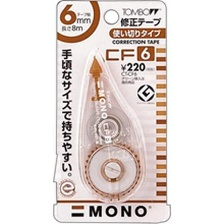book: (52, 0, 173, 223)
correction_fluid: (74, 50, 148, 205)
